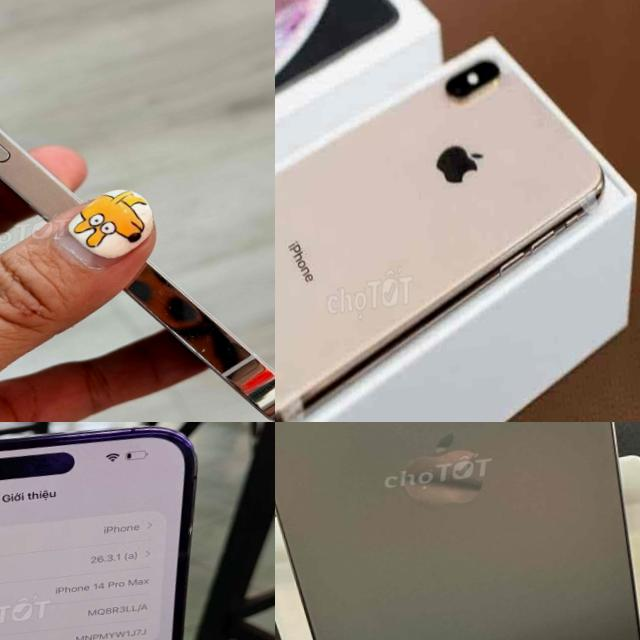gen_14: (0, 0, 275, 422), (0, 422, 231, 640)
gen_15: (275, 422, 640, 640)
gen_x_xs: (275, 27, 629, 422)
scratch: (195, 340, 216, 362)
